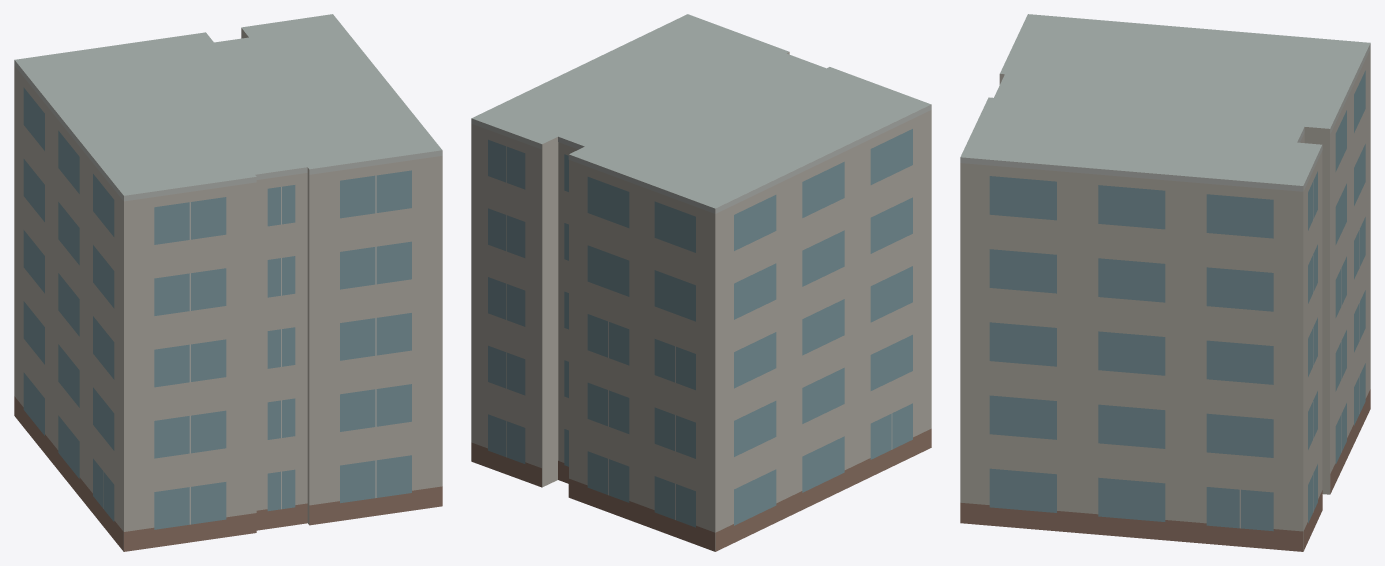
Rendered from survey-upis-32705760.glb.
3 views of the same model, side by side, from view 1: azimuth 30°, elevation 25°; view 2: azimuth 150°, elevation 25°; view 3: azimuth 270°, elevation 25° (orthographic). The views are drawn at different scales.
Visible parts, largest first — view 1: survey-upis-32705760.tmp; view 2: survey-upis-32705760.tmp; view 3: survey-upis-32705760.tmp.
Part boxes in pixels (x1,y1,x2,y2): survey-upis-32705760.tmp: [14, 14, 442, 551]; survey-upis-32705760.tmp: [471, 14, 931, 551]; survey-upis-32705760.tmp: [960, 14, 1370, 551].
Bounding box in the file's own units: 15.7 × 15.56 × 15.83.
